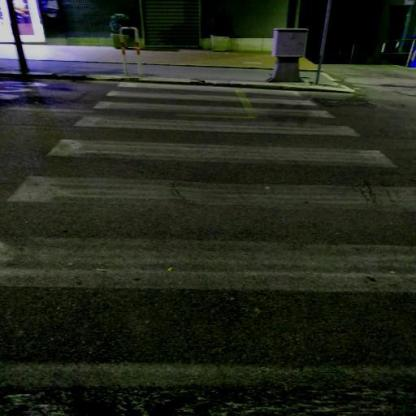crosswalk: (38, 114, 410, 176), (101, 80, 322, 107)
